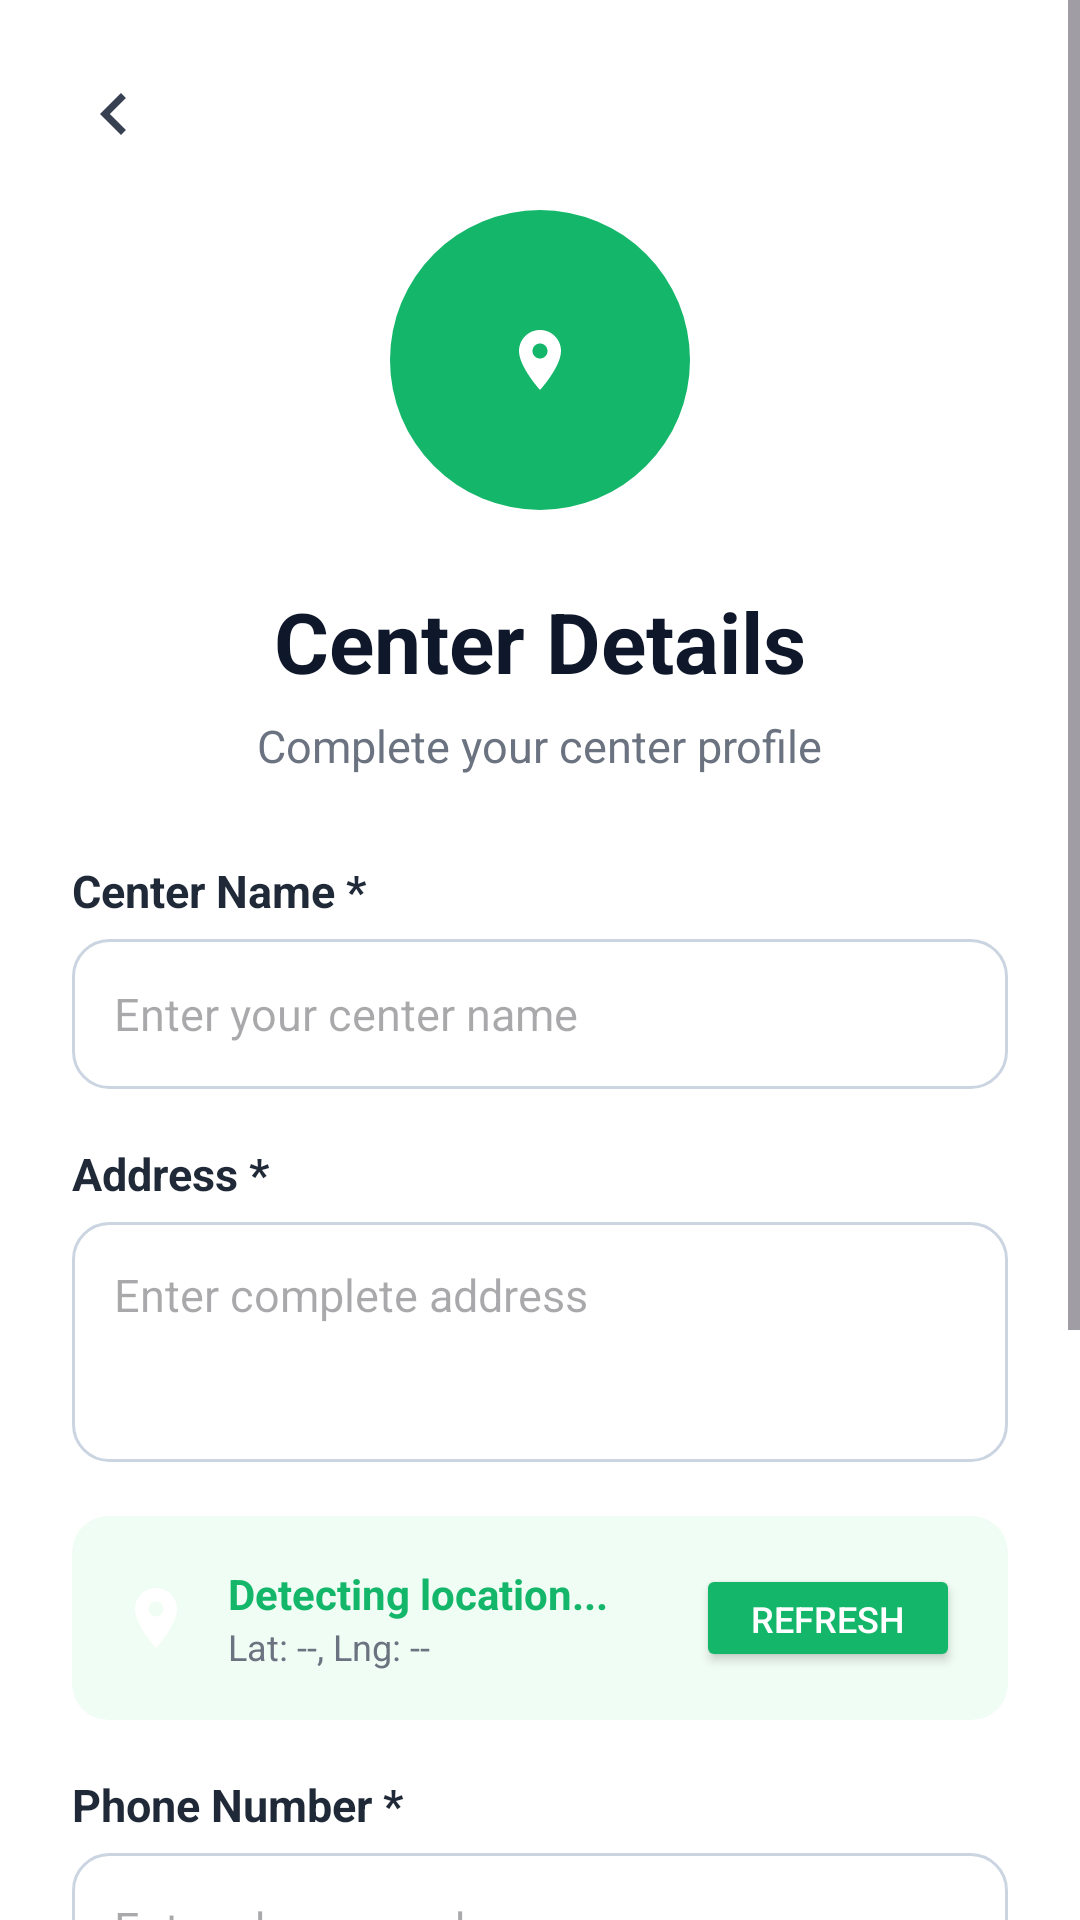

Named icons in this screenshot (1080x1920) and their centers, [x,y]:
back: [113,114]
location: [540,360]
